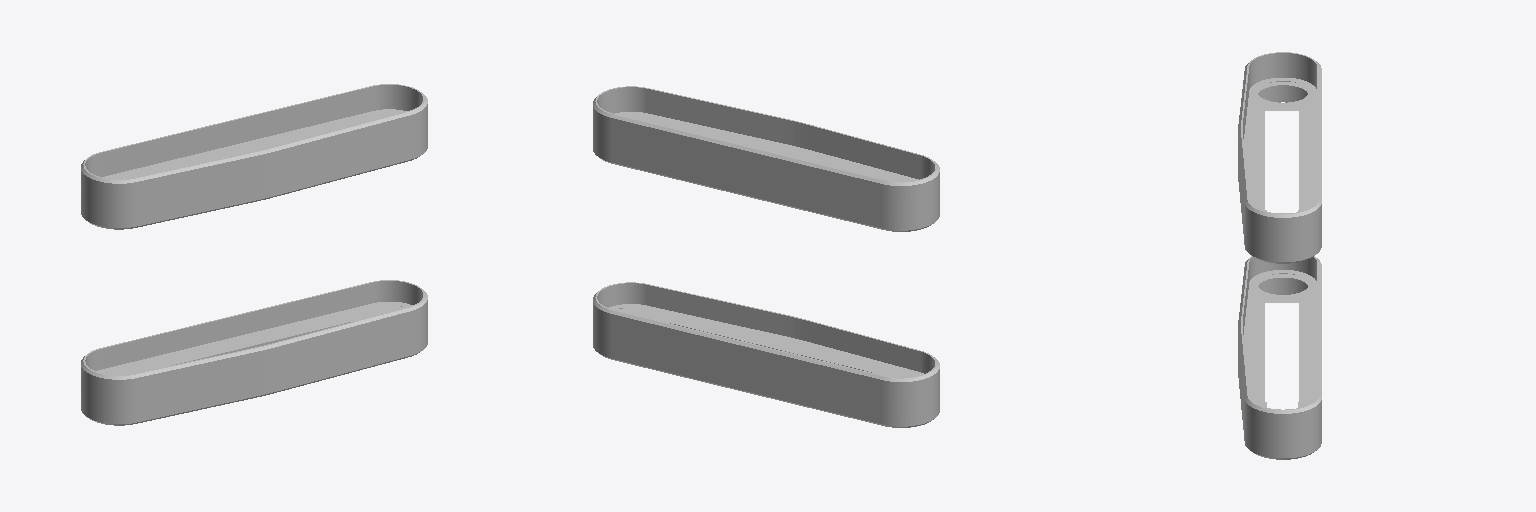
File: meshbody38_rviz.obj
3 renders of one model, left to right at view 1: azimuth 30°, elevation 25°; view 2: azimuth 150°, elevation 25°; view 3: azimuth 270°, elevation 25°, orthographic.
Parts seen in each view (by area): view 1: meshbody38_rviz\Facets; view 2: meshbody38_rviz\Facets; view 3: meshbody38_rviz\Facets.
Part boxes in pixels (x1,y1,x2,y2): meshbody38_rviz\Facets: (81, 84, 427, 425); meshbody38_rviz\Facets: (593, 86, 939, 427); meshbody38_rviz\Facets: (1238, 52, 1321, 459).
Size of the model in its own units: 3.58 by 2.49 by 0.7711.